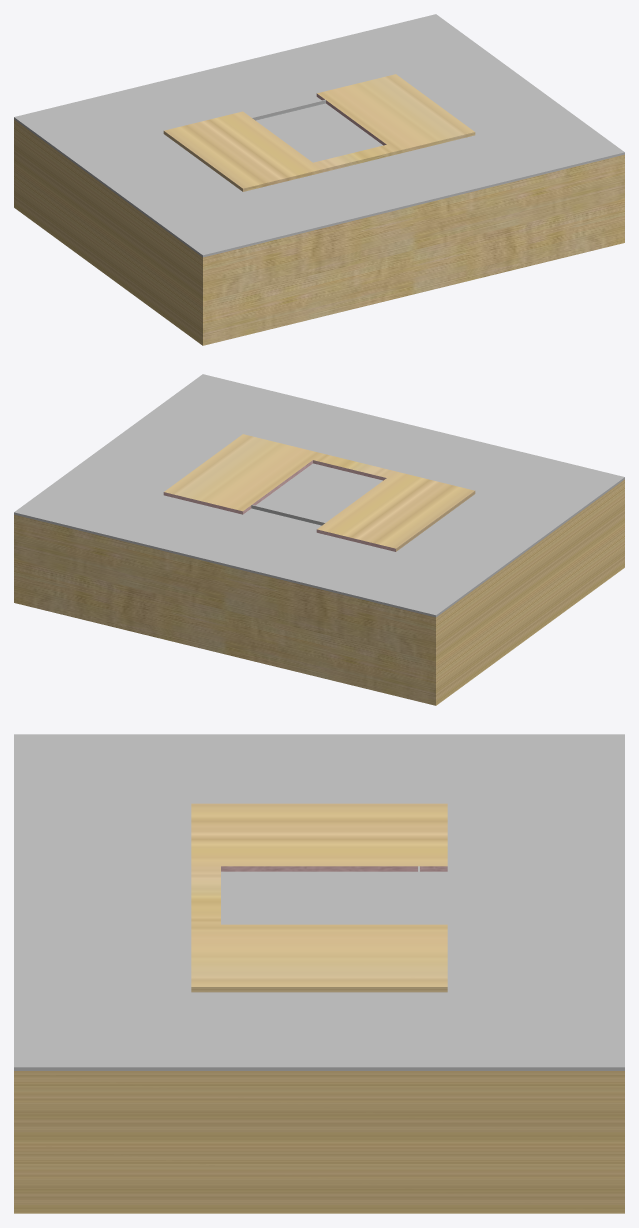
File: battiment01.glb
3 views of the same model, one above another, from view 1: azimuth 30°, elevation 25°; view 2: azimuth 150°, elevation 25°; view 3: azimuth 270°, elevation 25° (orthographic). The views are drawn at different scales.
Bounding box in the file's own units: 0.4 × 0.09 × 0.31.
Materials: 8 (8 with a texture image).
